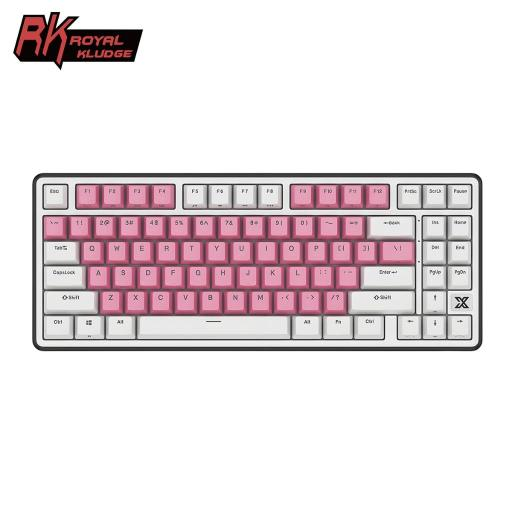KEYBOARD-2: (31, 162, 485, 352)
